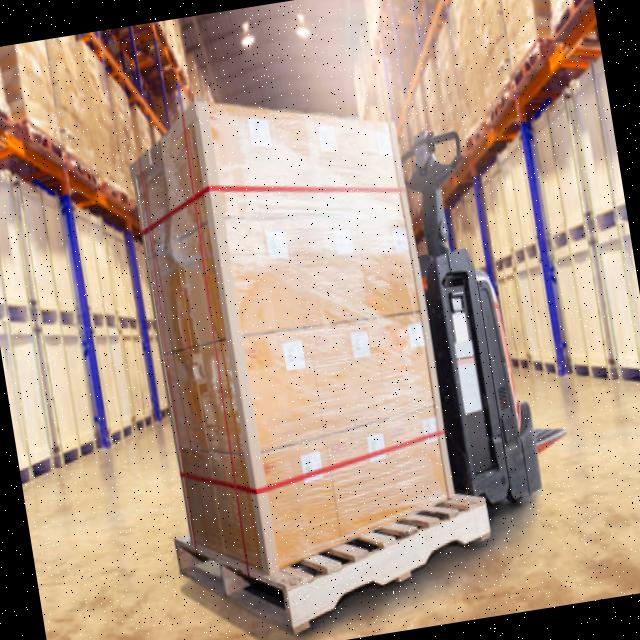Wooden-Pallets: (176, 491, 497, 640)
